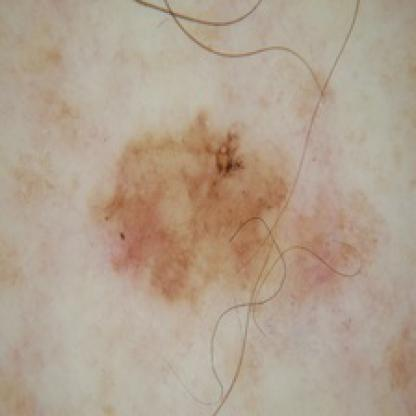malignant: (113, 121, 275, 271)
